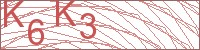3: (80, 13, 96, 39)
6: (27, 18, 44, 46)
K: (3, 1, 26, 28), (55, 1, 76, 27)
